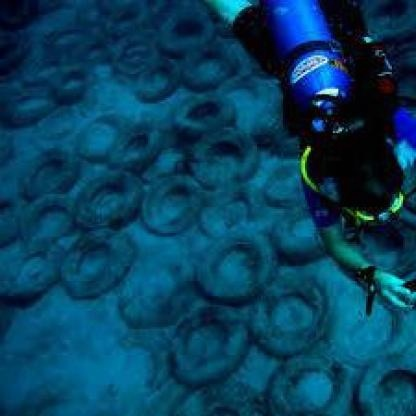tire: (162, 288, 262, 395), (207, 224, 296, 324), (248, 272, 338, 368), (127, 163, 224, 242), (157, 83, 248, 161), (57, 222, 139, 296), (48, 176, 150, 229), (100, 122, 179, 181)
